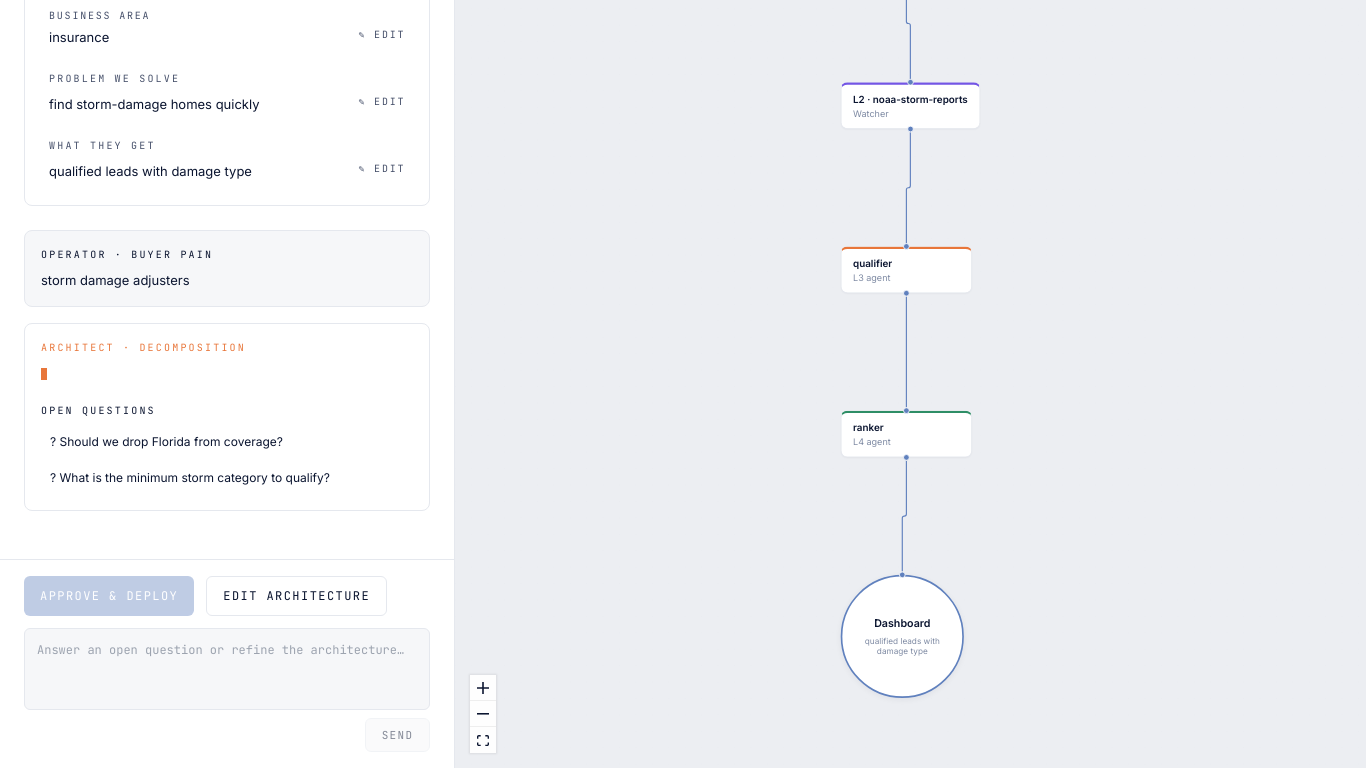
Test: <ArchitectThinking /> — conversation loop › a failed turn is non-destructive: prior turns survive, composer re-enables
(page scrolled)
Check: the element with test id "architect-message" is shown, box [24, 323, 430, 511]
Type "drop Florida" into the text box with test id "architect-composer" at (227, 669), box [24, 628, 430, 710]
(page scrolled)
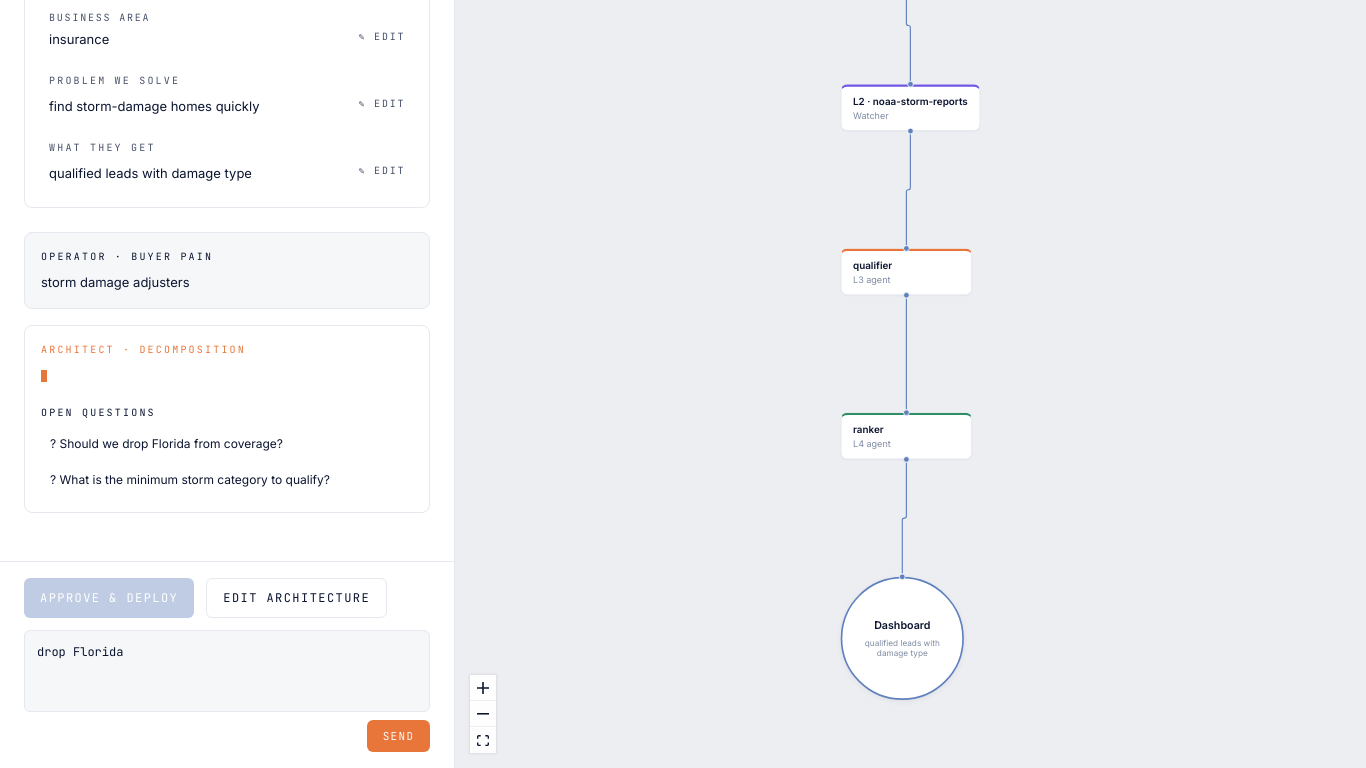
Click the button with test id "architect-composer-send" at (398, 736), box [367, 720, 430, 752]
(page scrolled)
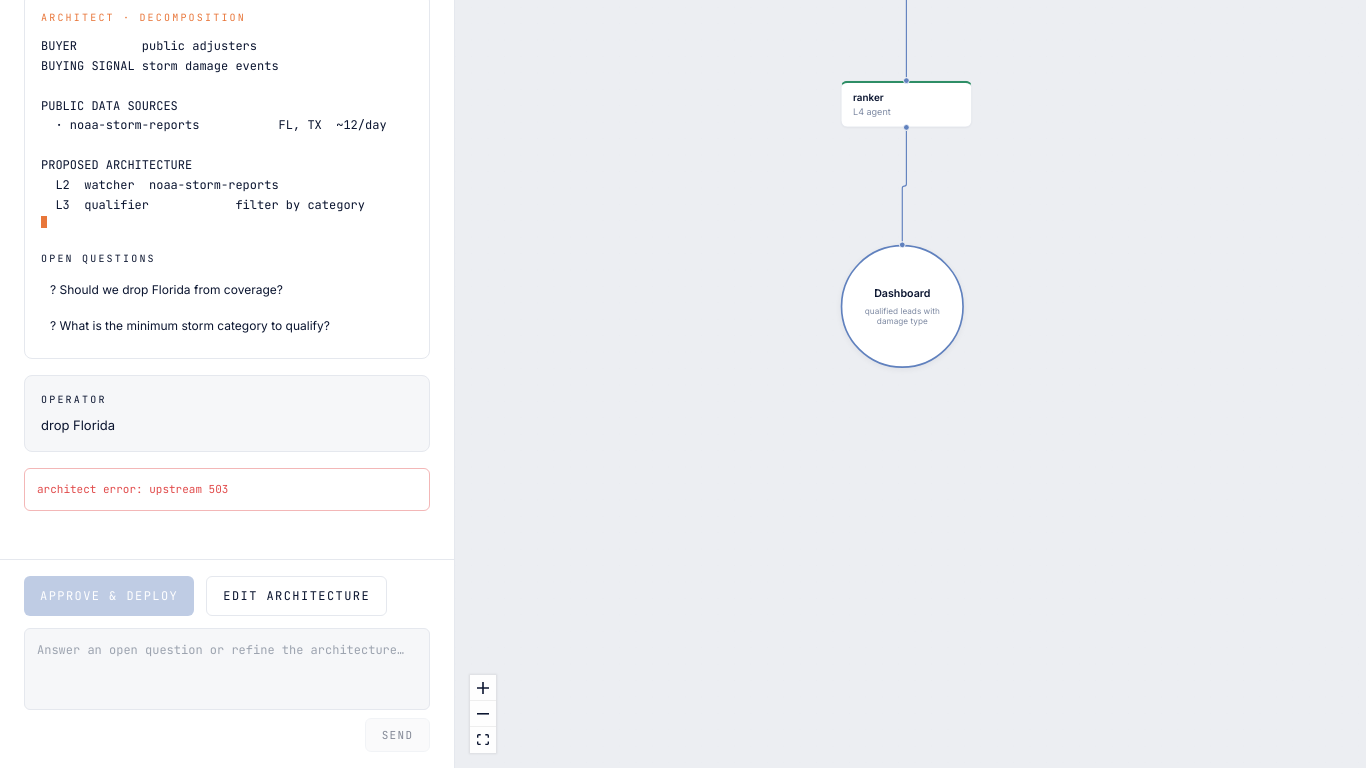
Check: the text box with test id "architect-composer" is enabled, box [24, 628, 430, 710]
Check: the text "architect error: upstream 503" is shown, box [24, 468, 430, 511]
